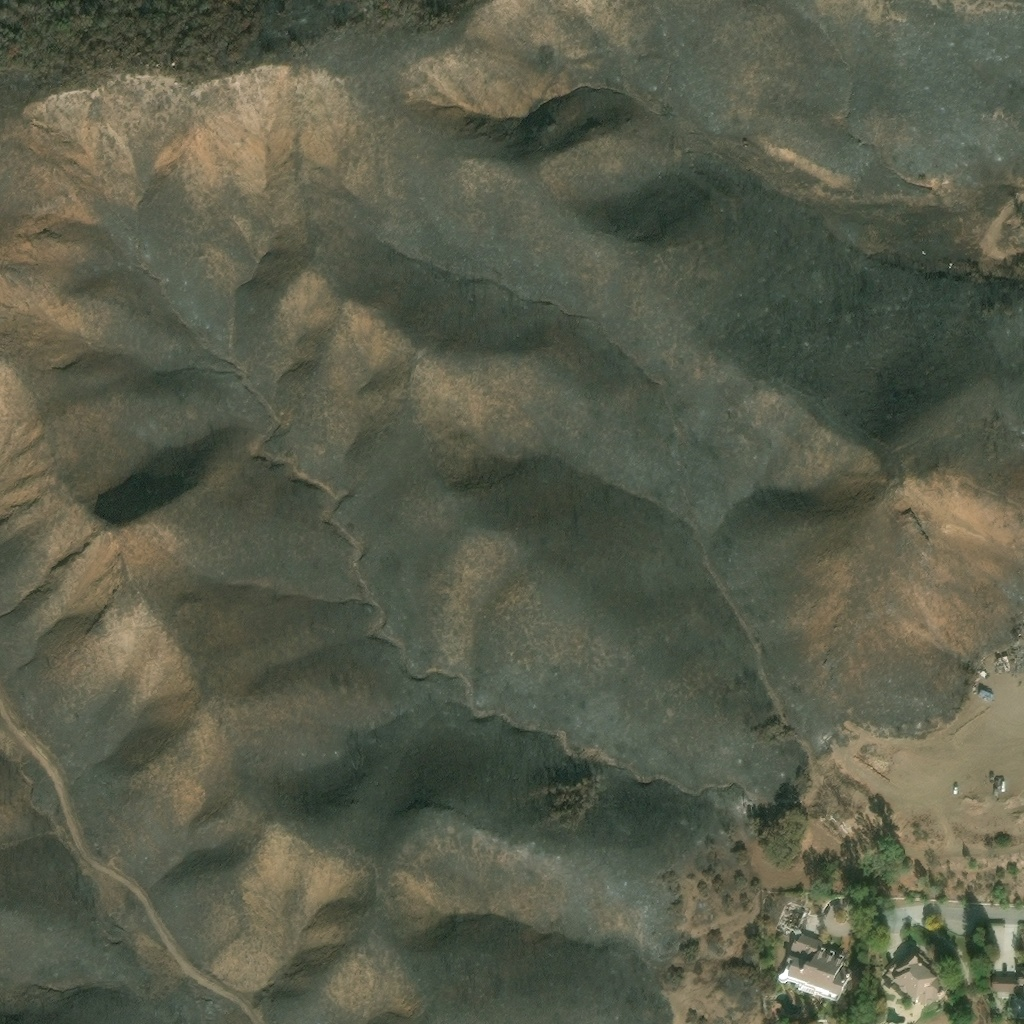0 no-damage: (777, 946, 861, 1008), (885, 953, 947, 1010), (788, 934, 824, 961), (992, 975, 1023, 993), (978, 689, 995, 703)
2 major-damage: (995, 655, 1014, 674), (1011, 645, 1020, 672)
3 destroyed: (779, 903, 805, 934), (978, 671, 989, 681)
